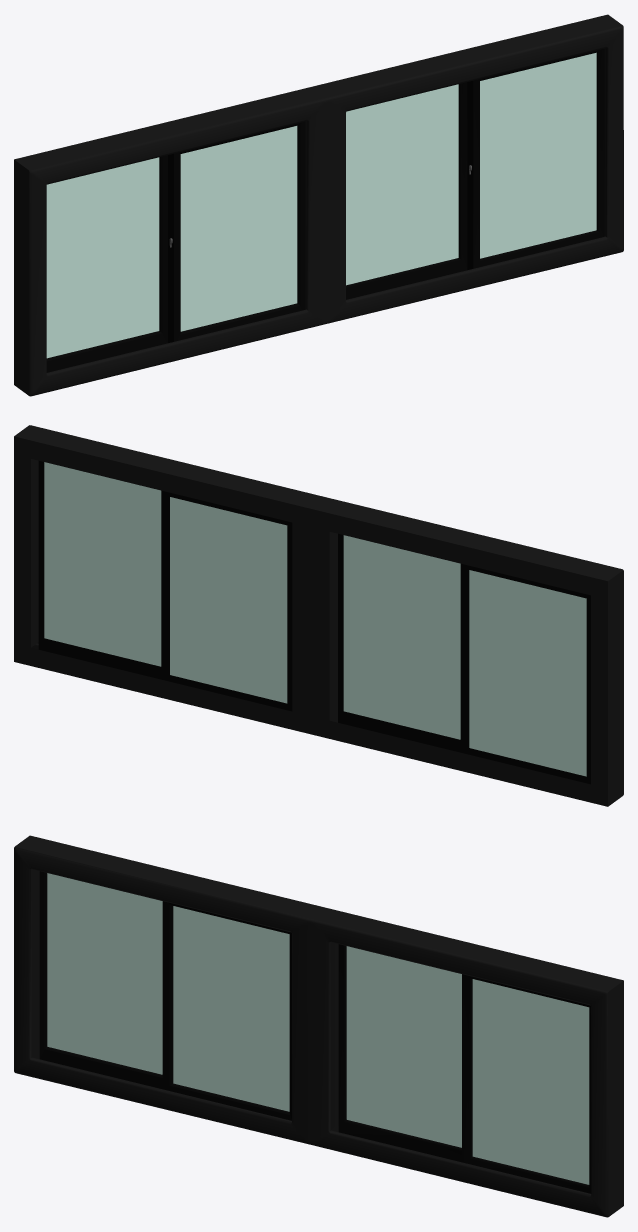
The model's file is Window.fbx.
The picture shows the model from 3 angles, top to bottom: view 1: azimuth 30°, elevation 25°; view 2: azimuth 150°, elevation 25°; view 3: azimuth 330°, elevation 25°; orthographic projection.
Visible parts, largest first — view 1: WindowBigEdge, Left, RIght, Left_Window, RIght_Window; view 2: WindowBigEdge, RIght_Window, Left_Window, RIght, Left; view 3: WindowBigEdge, RIght, Left, Left_Window, RIght_Window.
Boxes of the visible parts, left/top/right/bottom form: WindowBigEdge: left=14, top=14, right=623, bottom=396; Left: left=168, top=121, right=305, bottom=343; RIght: left=467, top=48, right=604, bottom=270; Left_Window: left=46, top=155, right=167, bottom=372; RIght_Window: left=346, top=82, right=467, bottom=299; WindowBigEdge: left=14, top=425, right=623, bottom=806; RIght_Window: left=163, top=491, right=292, bottom=711; Left_Window: left=462, top=564, right=590, bottom=784; RIght: left=38, top=461, right=163, bottom=679; Left: left=338, top=533, right=462, bottom=752; WindowBigEdge: left=14, top=835, right=623, bottom=1217; RIght: left=462, top=974, right=591, bottom=1193; Left: left=162, top=901, right=291, bottom=1120; Left_Window: left=39, top=871, right=162, bottom=1089; RIght_Window: left=338, top=944, right=461, bottom=1162.
Size of the model in its own units: 2.48 by 0.9004 by 0.1204.
